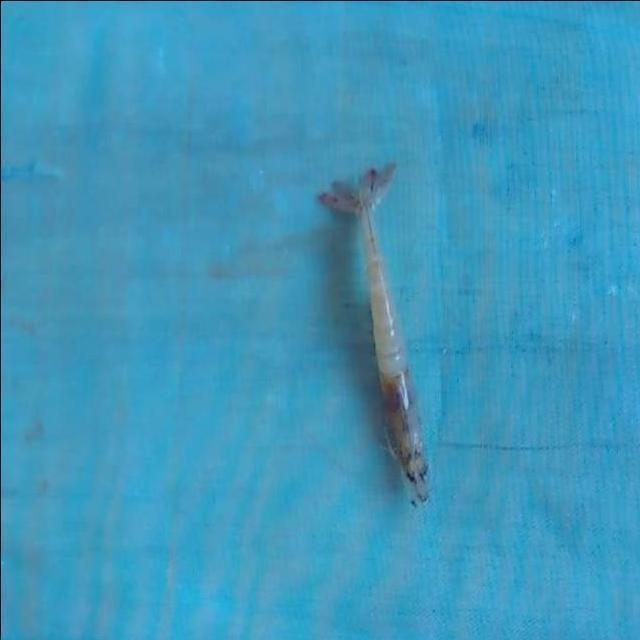shrimp: (318, 164, 428, 504)
